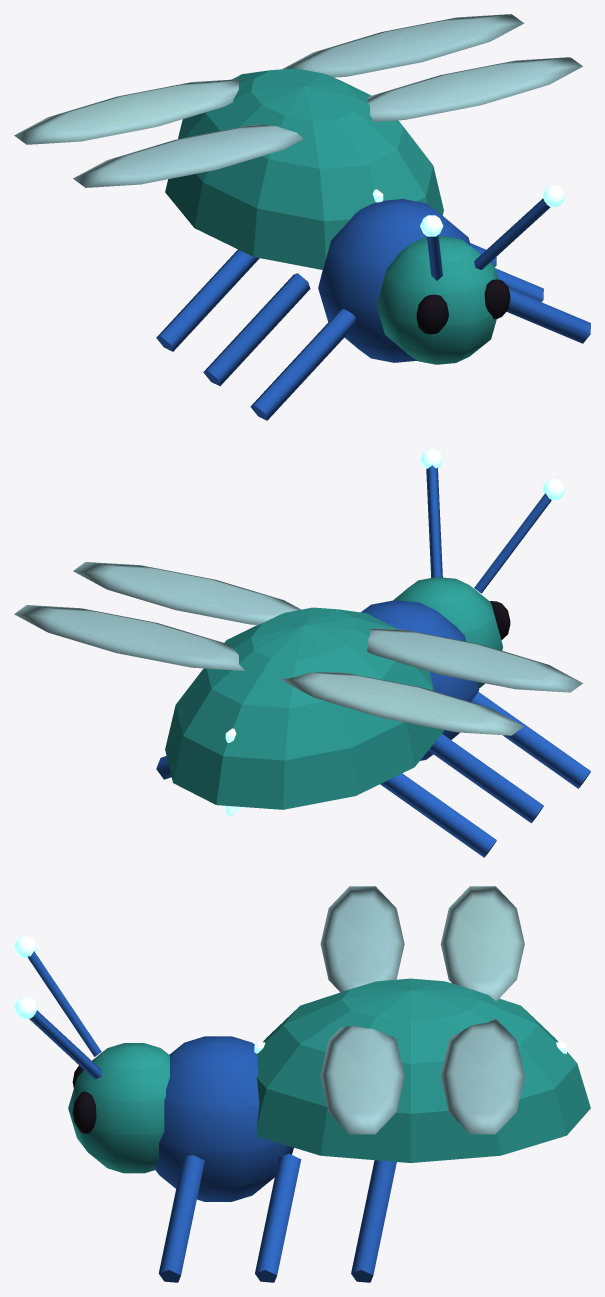
The model's file is monster_dragonfly.glb.
The picture shows the model from 3 angles, top to bottom: view 1: azimuth 30°, elevation 25°; view 2: azimuth 150°, elevation 25°; view 3: azimuth 270°, elevation 25°; orthographic projection. The views are drawn at different scales.
Visible parts, largest first — view 1: body_t0_palette, wingl_t0_palette, wingr_t0_palette, body_t0_glow_teal; view 2: body_t0_palette, wingl_t0_palette, wingr_t0_palette, body_t0_glow_teal; view 3: body_t0_palette, wingr_t0_palette, wingl_t0_palette, body_t0_glow_teal.
Part boxes in pixels (<box>): body_t0_palette: <box>156,68,590,420</box>; wingl_t0_palette: <box>14,79,303,187</box>; wingr_t0_palette: <box>282,14,582,121</box>; body_t0_glow_teal: <box>372,185,565,236</box>; body_t0_palette: <box>156,465,590,857</box>; wingl_t0_palette: <box>280,628,582,735</box>; wingr_t0_palette: <box>14,562,300,670</box>; body_t0_glow_teal: <box>225,449,565,816</box>; body_t0_palette: <box>27,951,590,1282</box>; wingr_t0_palette: <box>320,1019,524,1134</box>; wingl_t0_palette: <box>320,886,524,1001</box>; body_t0_glow_teal: <box>14,936,566,1053</box>.
Size of the model in its own units: 0.4883 by 0.217 by 0.48.
